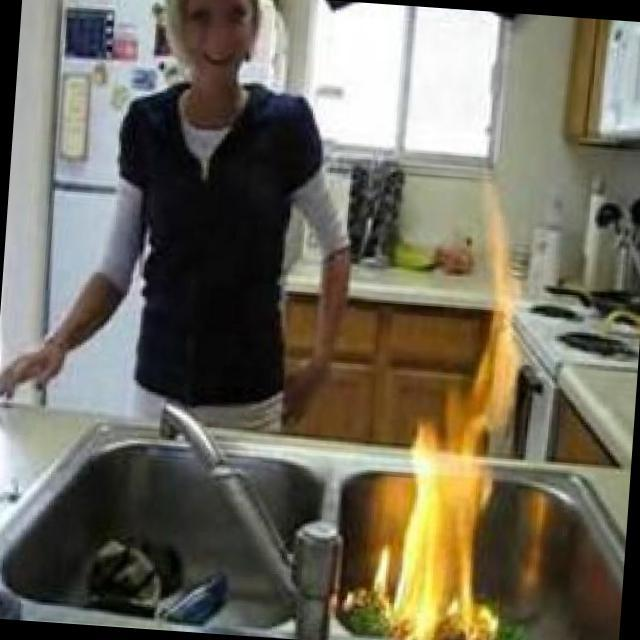Fire: (371, 166, 533, 640)
